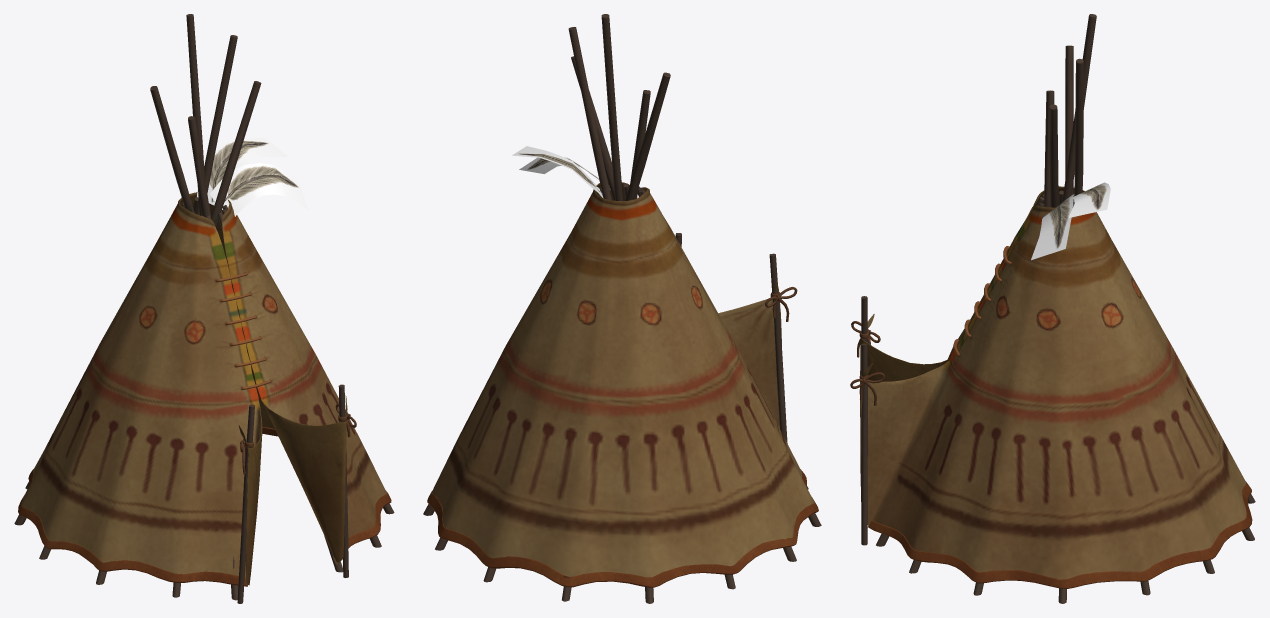
File: beepee.obj
3 renders of one model, left to right at view 1: azimuth 30°, elevation 25°; view 2: azimuth 150°, elevation 25°; view 3: azimuth 270°, elevation 25°, orthographic. The views are drawn at different scales.
Visible parts, largest first — view 1: teepee.1_Mesh_0.002; view 2: teepee.1_Mesh_0.002; view 3: teepee.1_Mesh_0.002.
Boxes of the visible parts, x1,y1,x2,y2 form: teepee.1_Mesh_0.002: (14,14,394,603); teepee.1_Mesh_0.002: (423,14,821,603); teepee.1_Mesh_0.002: (850,14,1255,603).
Size of the model in its own units: 0.2192 by 0.3115 by 0.2261.
Materials: 1 (1 with a texture image).
